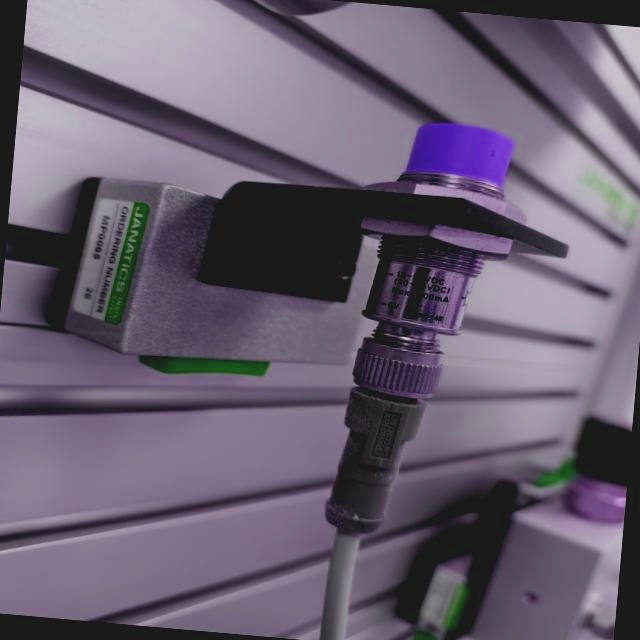inductive sensor: (45, 78, 584, 552)
